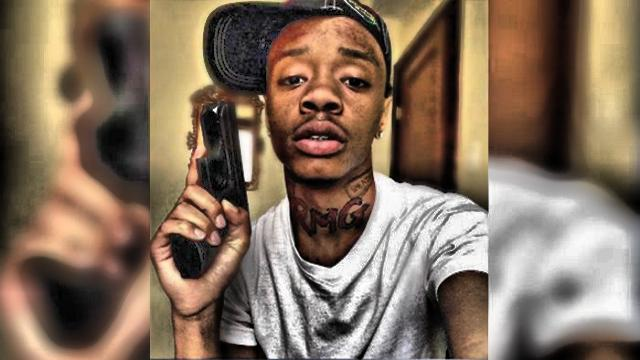pistol: (171, 102, 253, 272)
